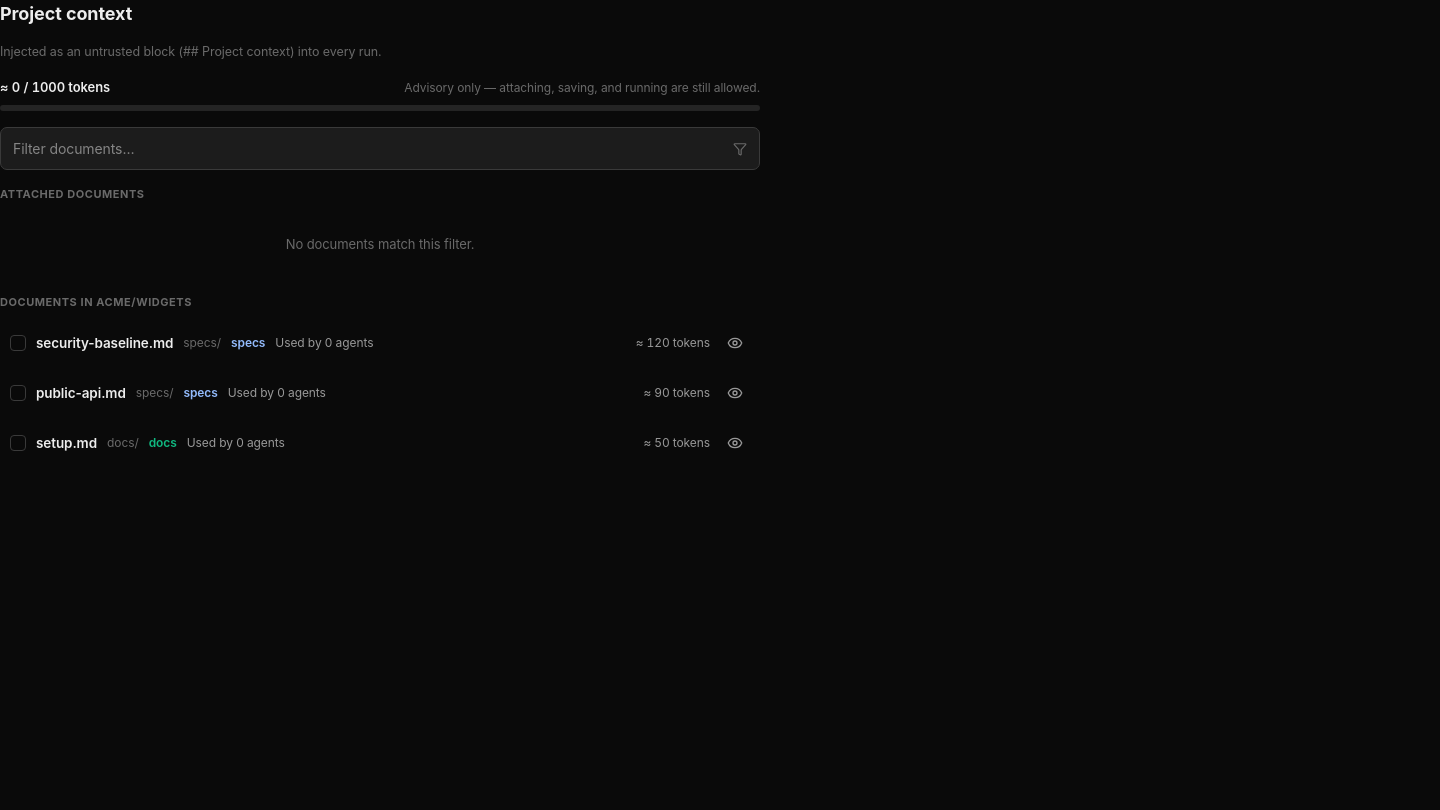
Test: ContextTab › previews a document in a right-side drawer, closable again
Click the button named "Preview" next to "≈ 120 tokens" at (735, 343), box x1=720 y1=328 x2=750 y2=358
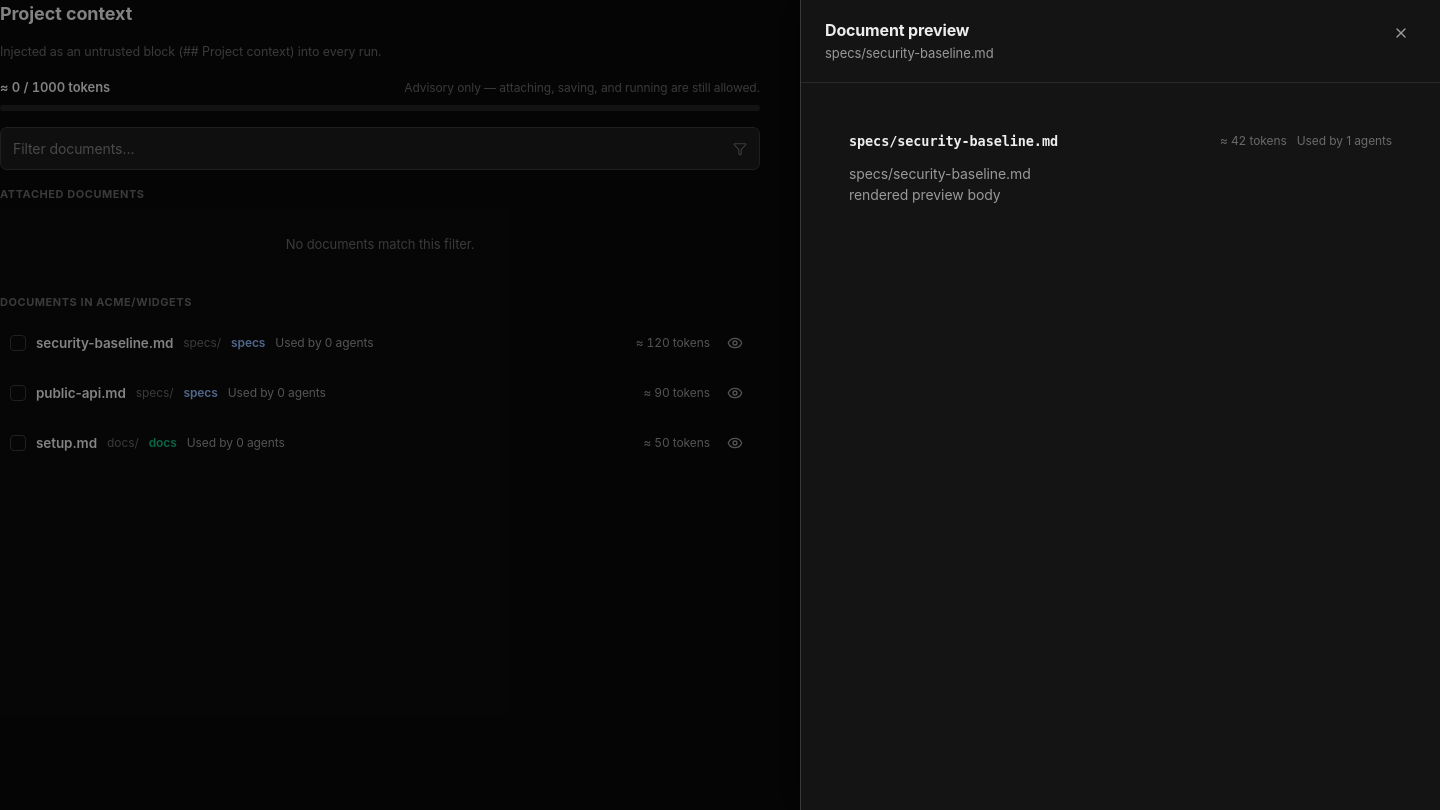
Expected: the text "rendered preview body" is shown, x1=849 y1=186 x2=1001 y2=203
Click the button named "Close" at (1401, 33), box x1=1386 y1=18 x2=1416 y2=48
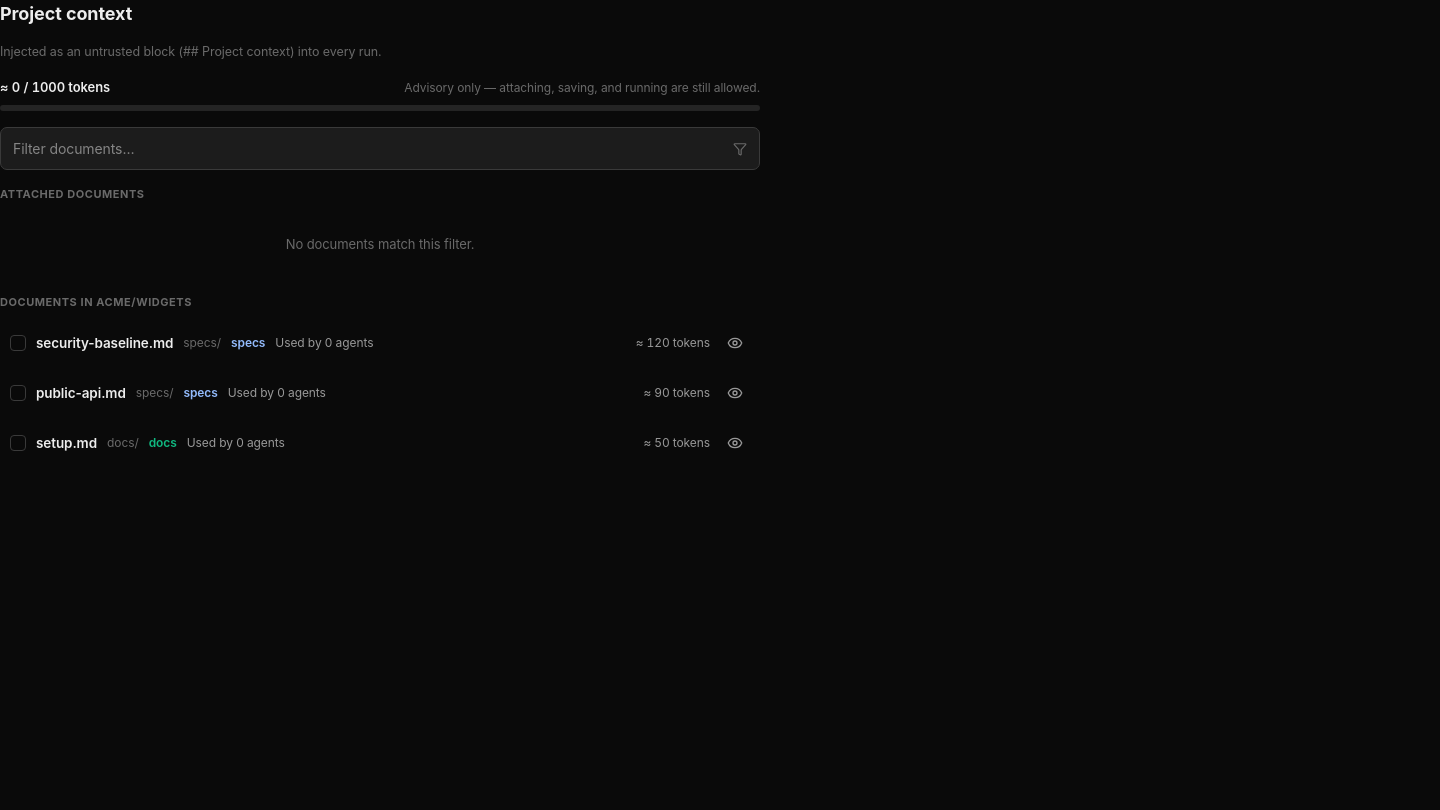
Expected: the dialog is gone
